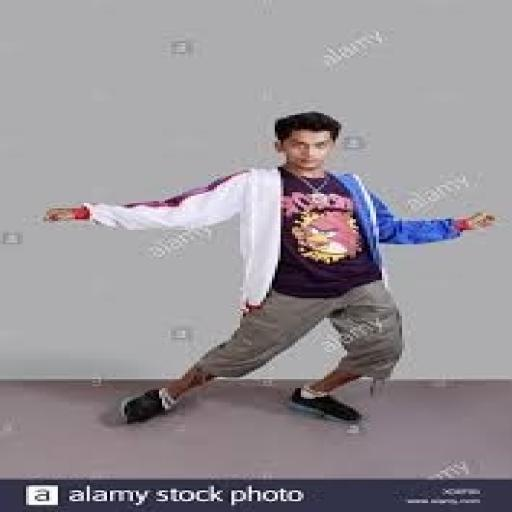dancing: (40, 110, 500, 428)
